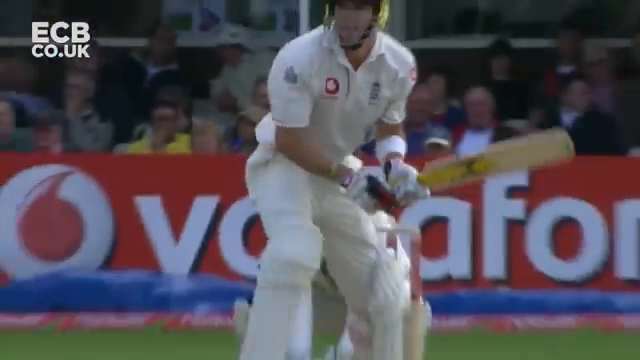batsman: (244, 1, 421, 352)
